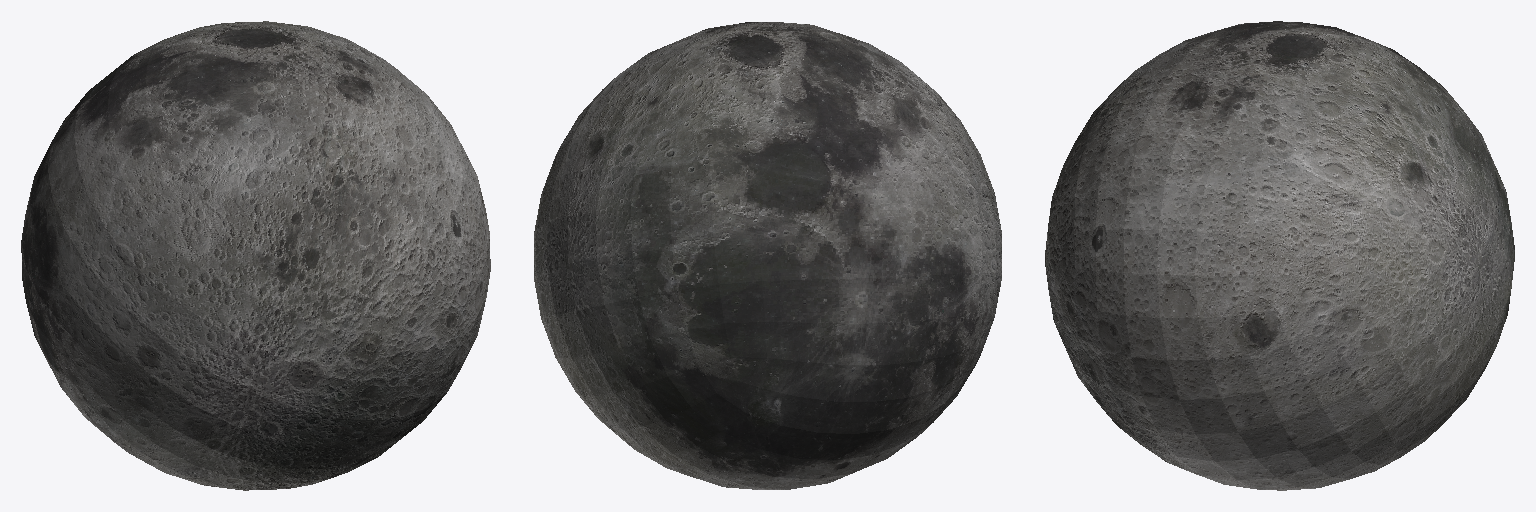
The picture shows the model from 3 angles: view 1: azimuth 30°, elevation 25°; view 2: azimuth 150°, elevation 25°; view 3: azimuth 270°, elevation 25°; orthographic projection.
Parts seen in each view (by area): view 1: moon_color_bump:Moon; view 2: moon_color_bump:Moon; view 3: moon_color_bump:Moon.
Part boxes in pixels (left/top/right/bottom): moon_color_bump:Moon: left=21, top=21, right=490, bottom=490; moon_color_bump:Moon: left=534, top=22, right=1001, bottom=489; moon_color_bump:Moon: left=1045, top=21, right=1514, bottom=490.
Size of the model in its own units: 348 by 348 by 349.
Materials: 1 (1 with a texture image).